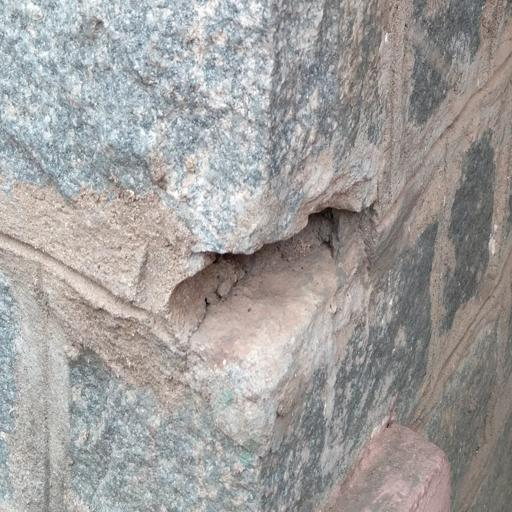spalling: (142, 186, 390, 384)
